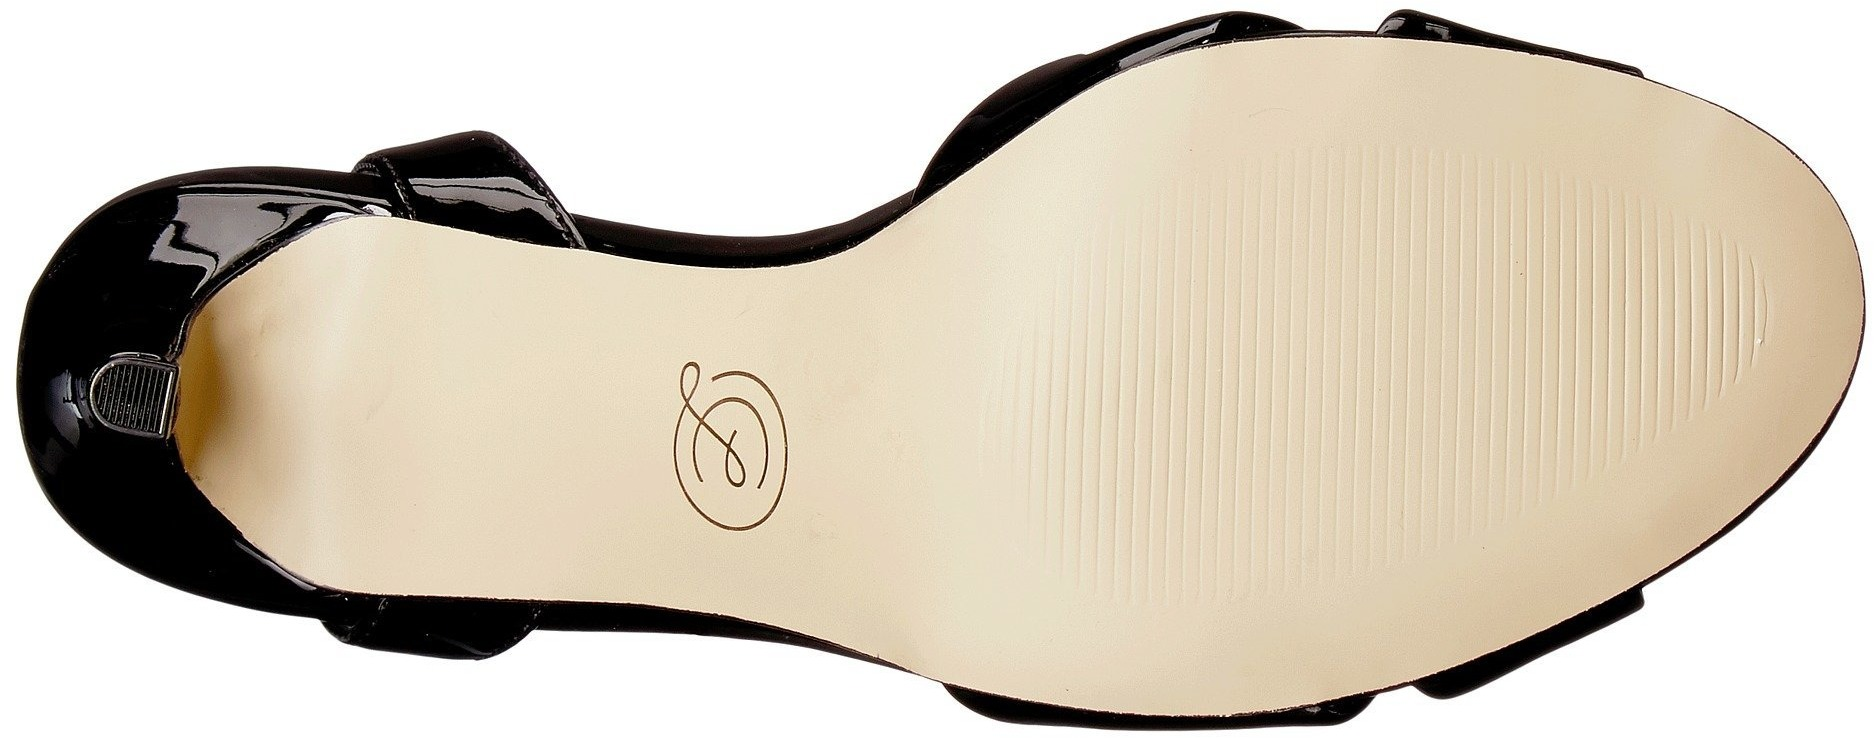exclude: (10, 102, 933, 712)
other: (1231, 167, 1463, 390), (999, 293, 1218, 494), (1472, 212, 1696, 408), (1231, 397, 1405, 583), (935, 565, 1068, 695), (1419, 404, 1541, 537), (104, 366, 160, 422)
